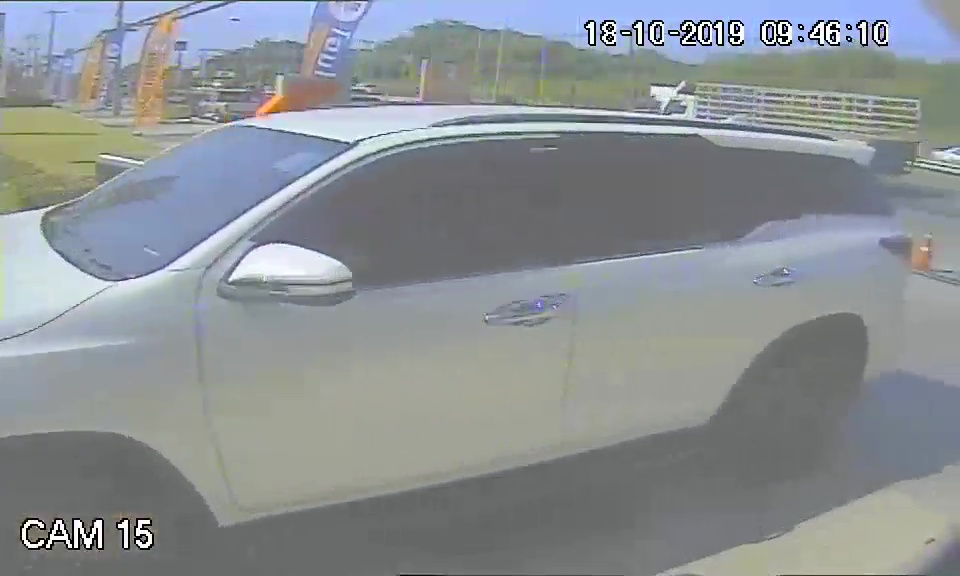pickup: (24, 101, 906, 503)
